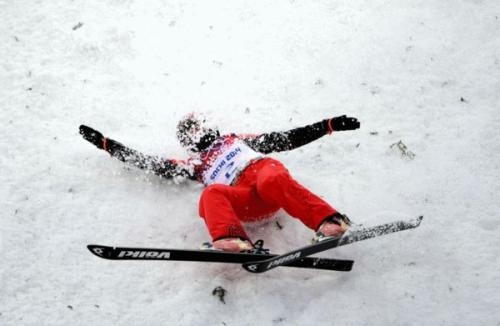falling: (70, 87, 382, 273)
